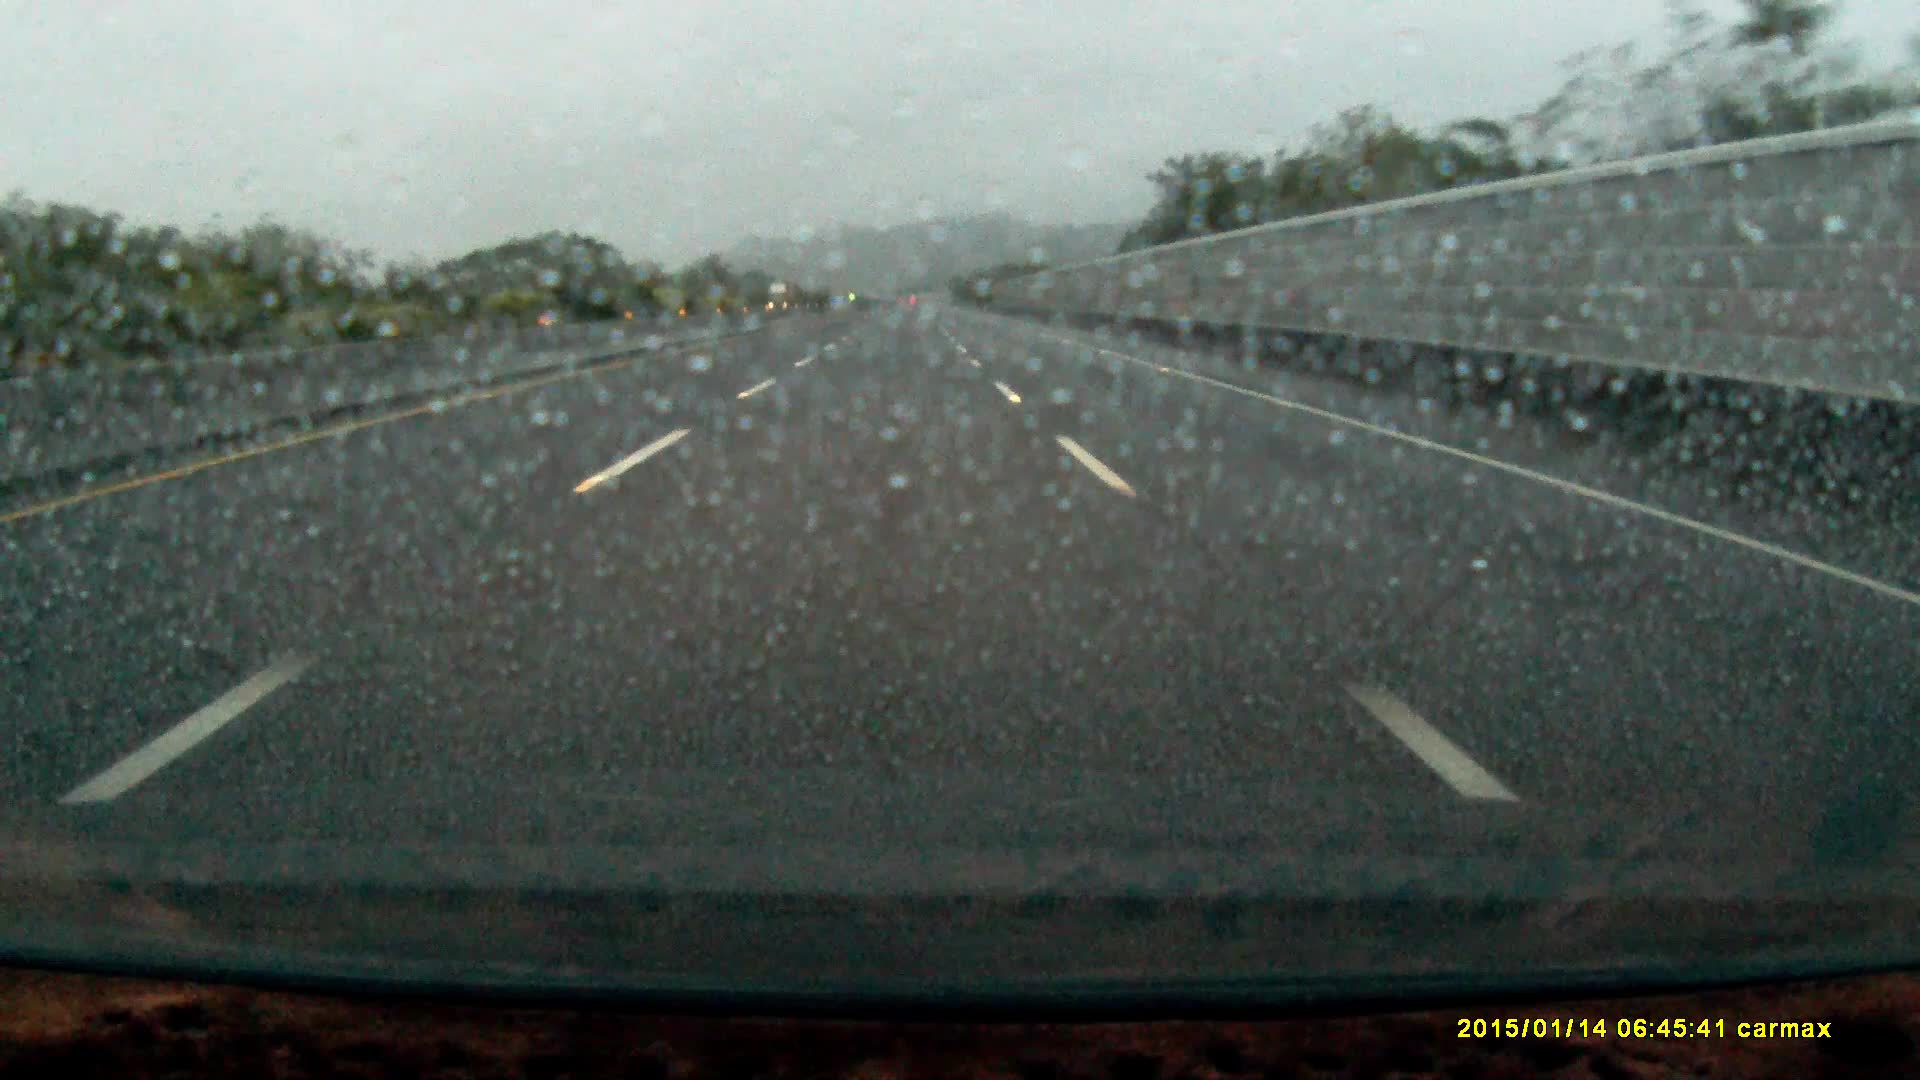vehicle: (769, 280, 795, 307)
